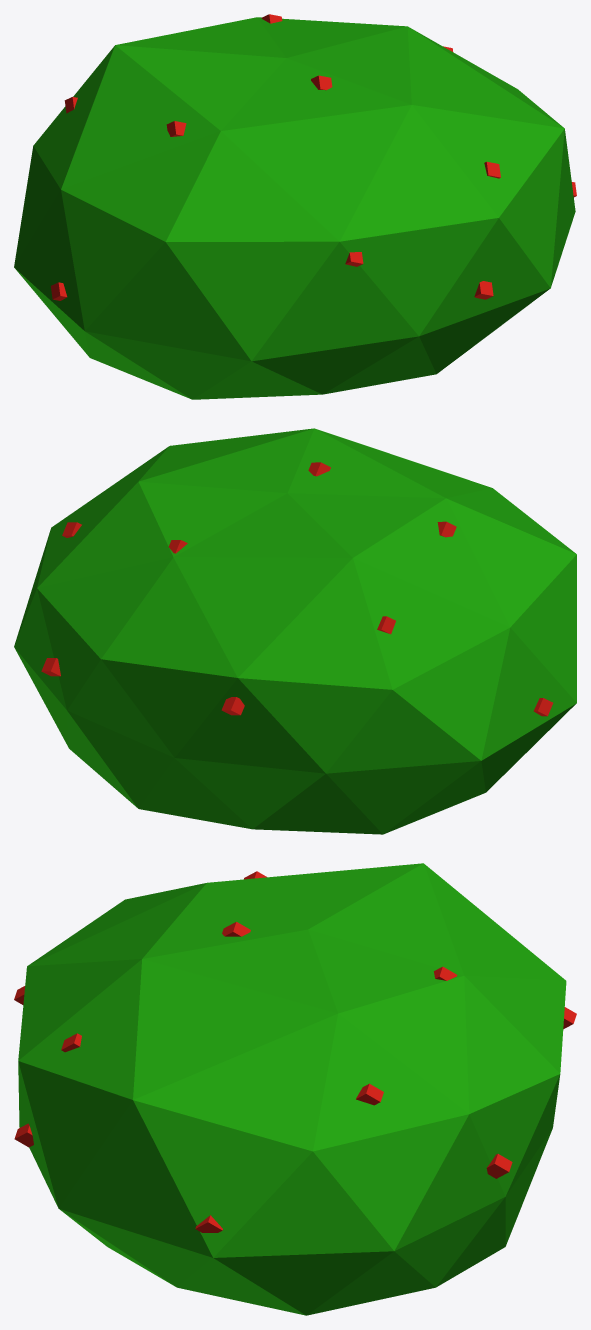
File: Bush_7.fbx
3 views of the same model, one above another, from view 1: azimuth 30°, elevation 25°; view 2: azimuth 150°, elevation 25°; view 3: azimuth 270°, elevation 25° (orthographic). The views are drawn at different scales.
Parts seen in each view (by area): view 1: Bush7_mesh; view 2: Bush7_mesh; view 3: Bush7_mesh.
Part boxes in pixels (x1,y1,x2,y2): Bush7_mesh: (14, 14, 576, 399); Bush7_mesh: (14, 428, 576, 834); Bush7_mesh: (14, 863, 576, 1315).
Bounding box in the file's own units: 183 × 103 × 166.
